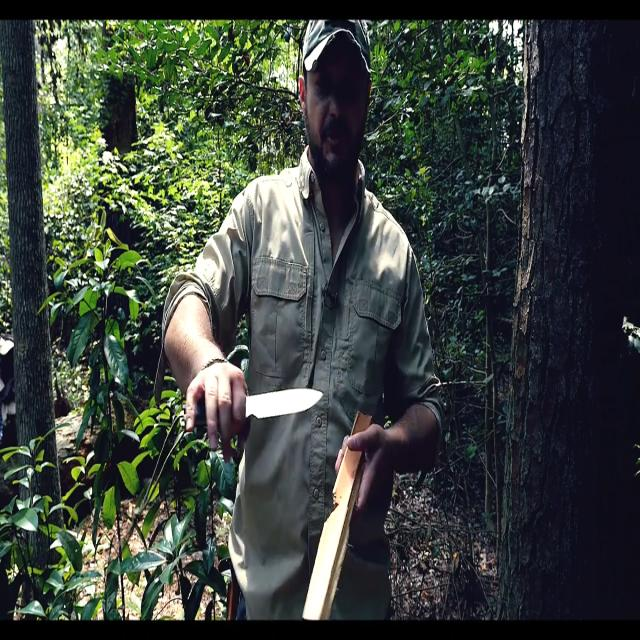knife: (245, 388, 327, 422)
